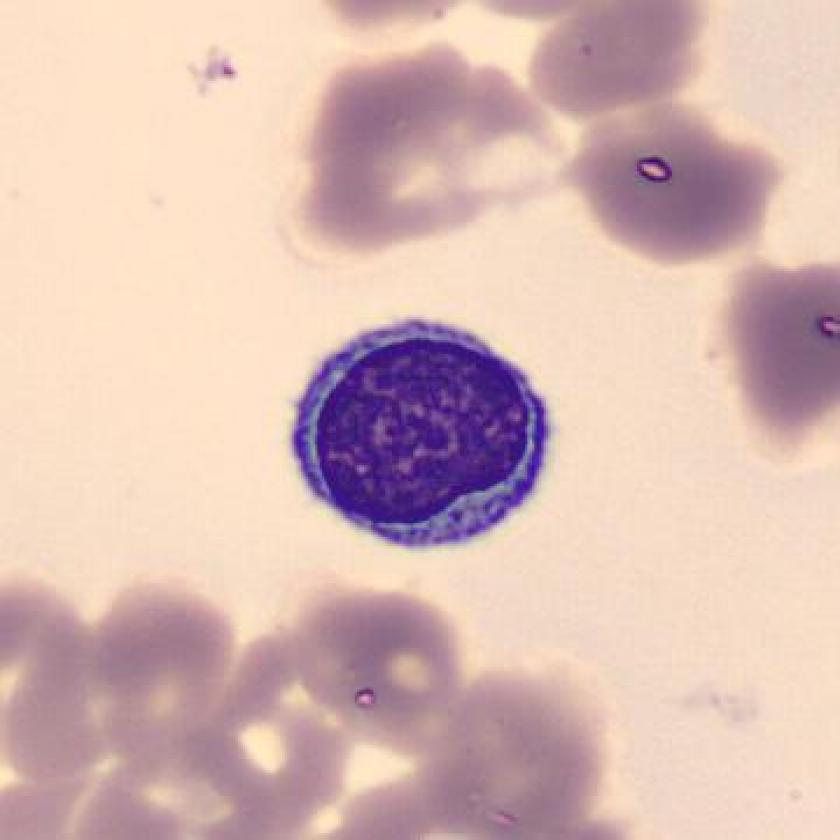lymphocyte: (276, 304, 566, 566)
